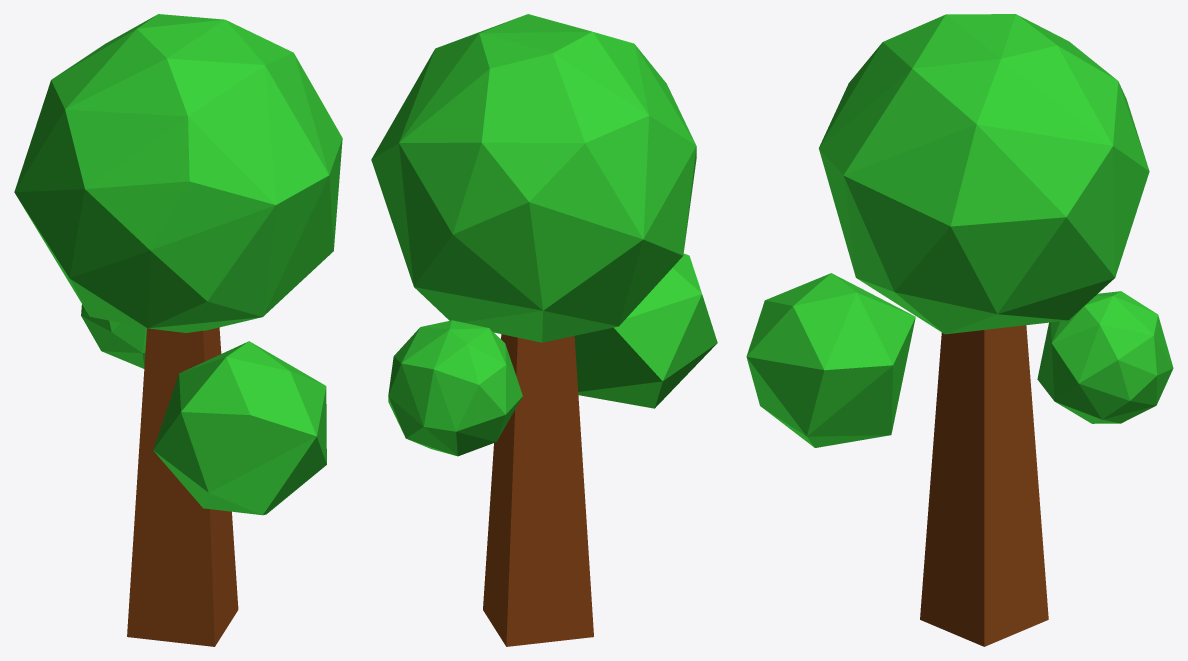
Rendered from blendertree.fbx.
The picture shows the model from 3 angles, left to right: view 1: azimuth 30°, elevation 25°; view 2: azimuth 150°, elevation 25°; view 3: azimuth 270°, elevation 25°; orthographic projection.
Parts seen in each view (by area): view 1: Sphere.053, Sphere.052, Circle.054, Sphere.051; view 2: Sphere.053, Circle.054, Sphere.051, Sphere.052; view 3: Sphere.053, Circle.054, Sphere.052, Sphere.051.
Boxes of the visible parts, <box> form: Sphere.053: <box>14,14,342,332</box>; Sphere.052: <box>153,341,326,515</box>; Circle.054: <box>127,327,238,646</box>; Sphere.051: <box>81,304,146,368</box>; Sphere.053: <box>371,14,696,342</box>; Circle.054: <box>483,334,593,646</box>; Sphere.051: <box>388,320,522,456</box>; Sphere.052: <box>574,253,717,408</box>; Sphere.053: <box>818,14,1149,334</box>; Circle.054: <box>920,325,1048,646</box>; Sphere.052: <box>746,273,915,447</box>; Sphere.051: <box>1037,291,1173,423</box>.
Size of the model in its own units: 53.46 by 108 by 70.56.
